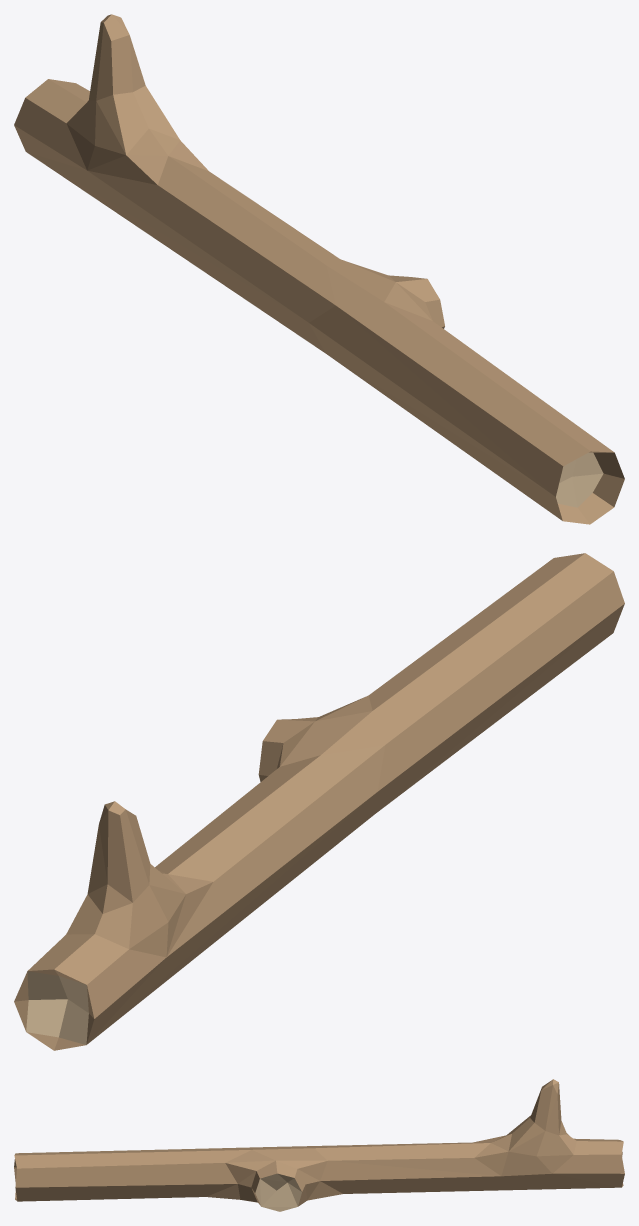
File: trunk10.fbx
The picture shows the model from 3 angles, top to bottom: view 1: azimuth 30°, elevation 25°; view 2: azimuth 150°, elevation 25°; view 3: azimuth 270°, elevation 25°; orthographic projection. The views are drawn at different scales.
Visible parts, largest first — view 1: trunk10; view 2: trunk10; view 3: trunk10.
Part boxes in pixels (x1,y1,x2,y2): trunk10: (14, 14, 624, 524); trunk10: (14, 553, 624, 1050); trunk10: (14, 1079, 624, 1211).
Size of the model in its own units: 36.05 by 51.81 by 256.
